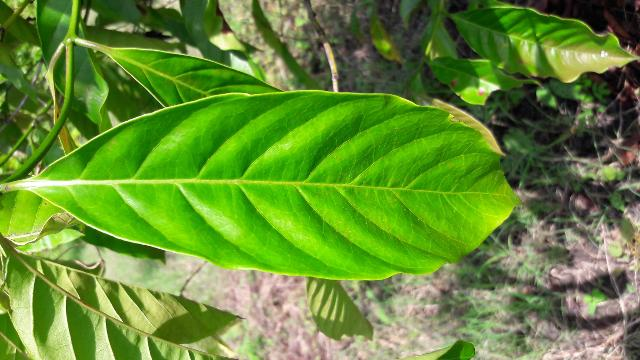healthy: (16, 90, 517, 280)
